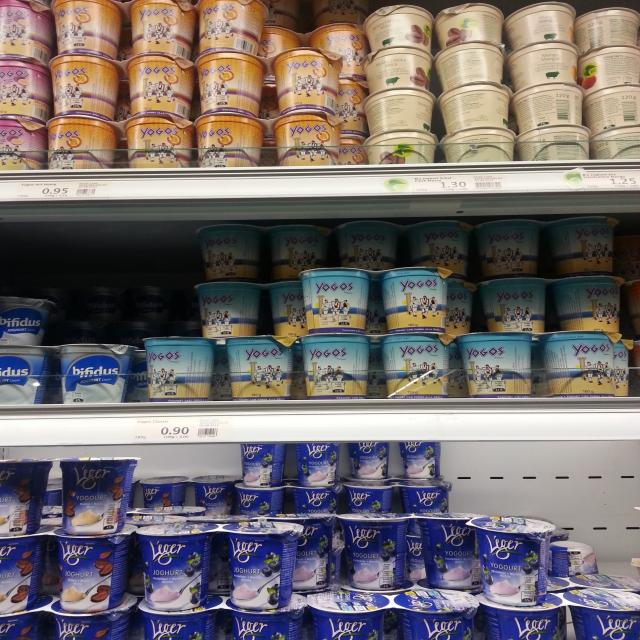Yoghurt: (137, 522, 304, 610), (0, 524, 138, 614), (337, 510, 492, 590), (0, 458, 138, 536), (296, 332, 456, 399), (142, 335, 298, 403), (456, 331, 619, 396), (194, 46, 342, 116), (299, 267, 453, 333), (46, 52, 192, 120), (476, 216, 616, 280), (51, 0, 197, 60), (476, 276, 627, 334), (476, 587, 640, 640), (307, 589, 476, 640), (362, 80, 513, 137), (194, 110, 342, 167), (0, 343, 135, 405), (465, 516, 556, 606), (334, 220, 474, 278), (138, 592, 306, 640), (360, 40, 504, 96), (47, 114, 193, 168), (194, 224, 328, 281), (364, 2, 504, 54), (508, 39, 640, 92), (513, 82, 640, 137), (504, 0, 640, 51), (193, 280, 308, 338), (255, 22, 365, 82), (0, 594, 137, 640), (361, 126, 516, 164), (513, 123, 640, 160), (240, 442, 338, 488), (196, 0, 268, 56), (140, 476, 240, 514), (340, 481, 453, 513), (235, 482, 342, 514), (0, 59, 52, 124), (0, 0, 49, 64), (0, 117, 45, 169)
